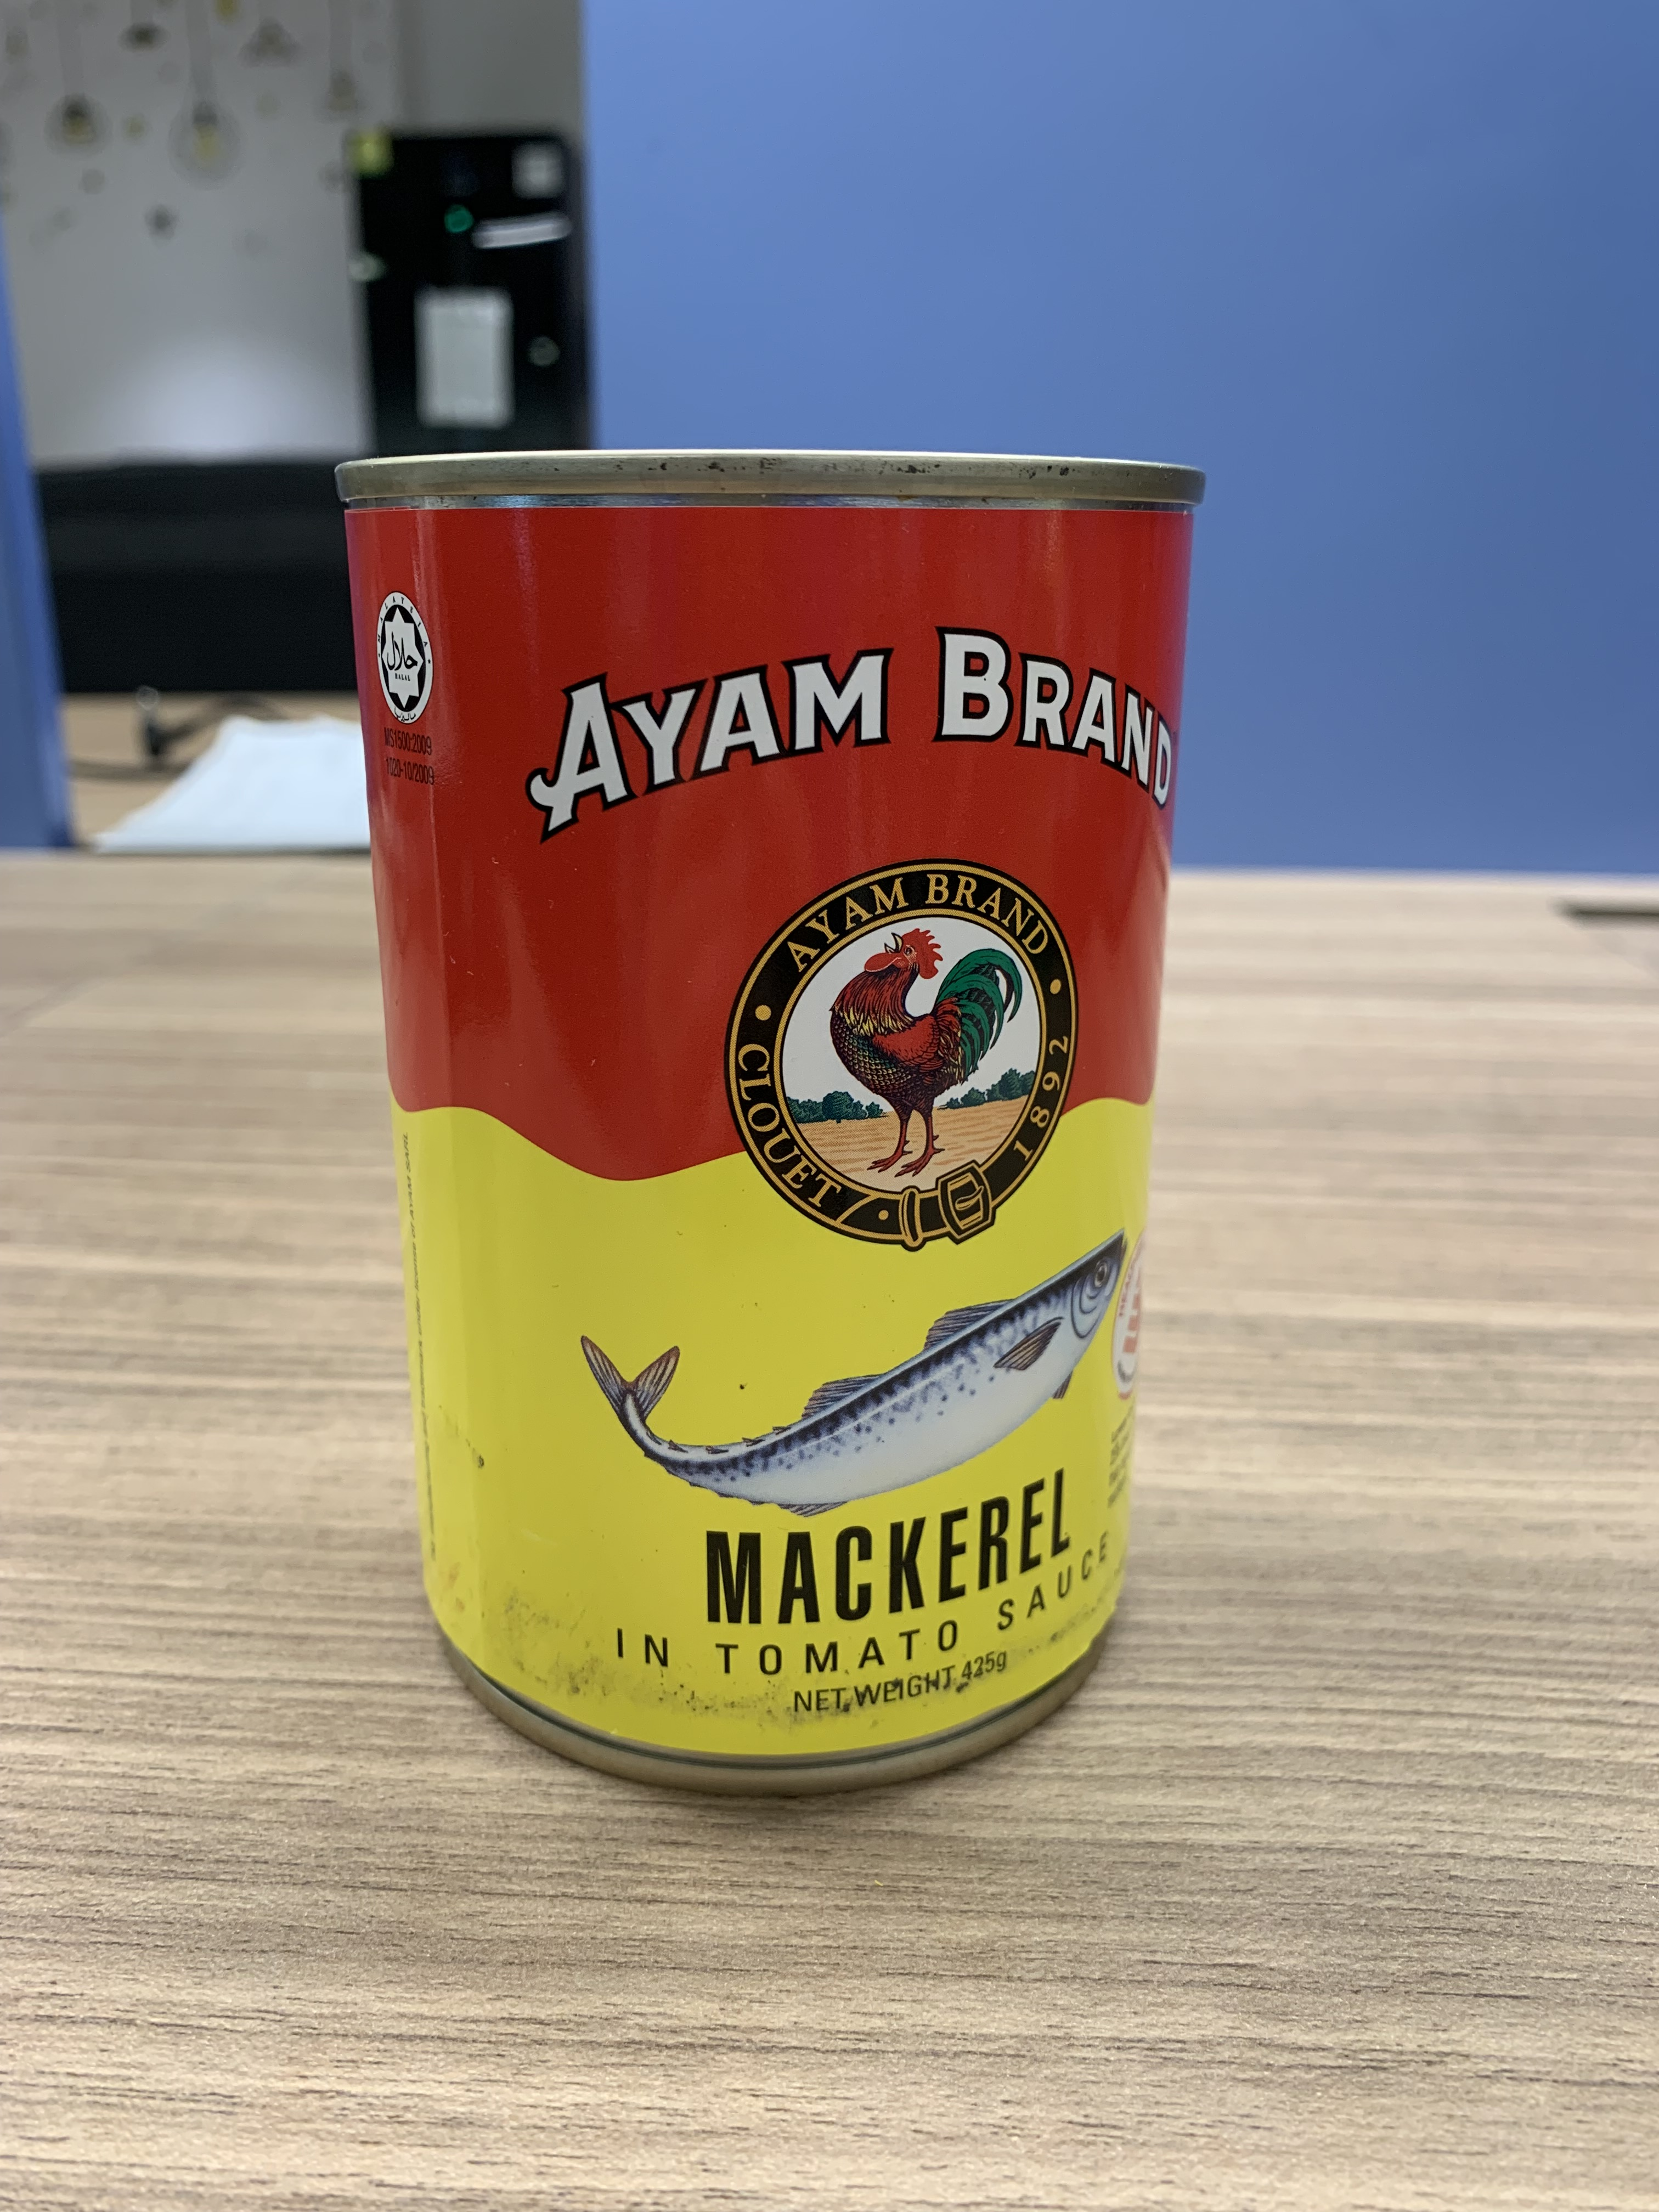sardines_400g-499g: (378, 550, 1140, 1723)
